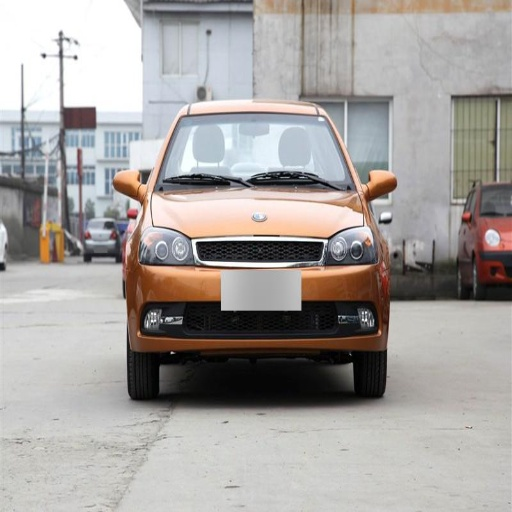front_bumper: (138, 238, 387, 356)
front_right_light: (139, 229, 190, 263)
hood: (151, 190, 366, 237)
